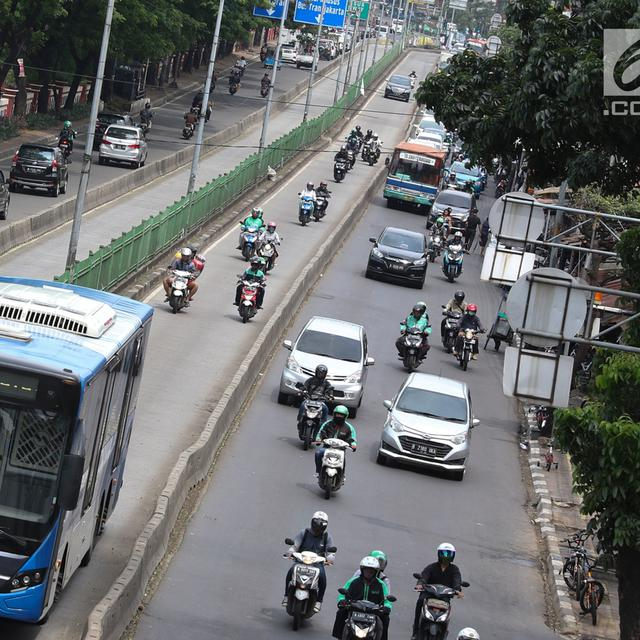car: (1, 277, 156, 625), (381, 368, 467, 480), (281, 316, 370, 417), (384, 142, 443, 213), (370, 225, 428, 292), (11, 141, 70, 198), (428, 189, 476, 238), (100, 123, 150, 167), (95, 114, 133, 154), (449, 157, 485, 196), (384, 75, 413, 103), (295, 43, 319, 72), (265, 47, 283, 73), (280, 45, 296, 65)
motorbike: (332, 552, 399, 640), (282, 513, 332, 625), (416, 542, 462, 640), (320, 405, 357, 500), (297, 365, 331, 456), (165, 242, 198, 314), (398, 302, 431, 373), (237, 257, 267, 324), (459, 305, 483, 372), (442, 292, 466, 351), (241, 209, 265, 260), (445, 231, 466, 281), (259, 222, 278, 275), (431, 219, 450, 263), (299, 183, 315, 228), (191, 88, 211, 124), (59, 120, 77, 159), (314, 182, 328, 221), (139, 105, 156, 137), (439, 209, 455, 242), (335, 146, 348, 186), (183, 109, 197, 141), (369, 134, 381, 168), (347, 138, 359, 171), (350, 125, 362, 155), (363, 127, 373, 162), (463, 178, 476, 202), (261, 74, 273, 99), (230, 70, 241, 96), (447, 173, 457, 198), (236, 56, 248, 76)
